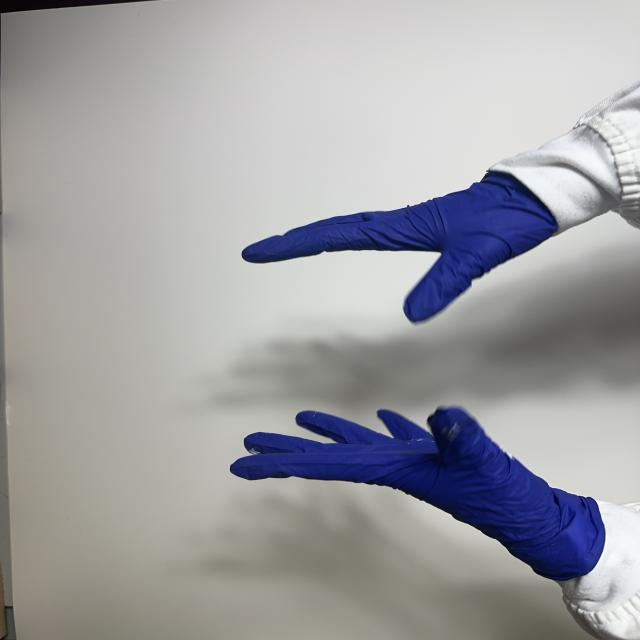gloves_contaminated: (230, 407, 605, 581), (242, 174, 558, 322)
